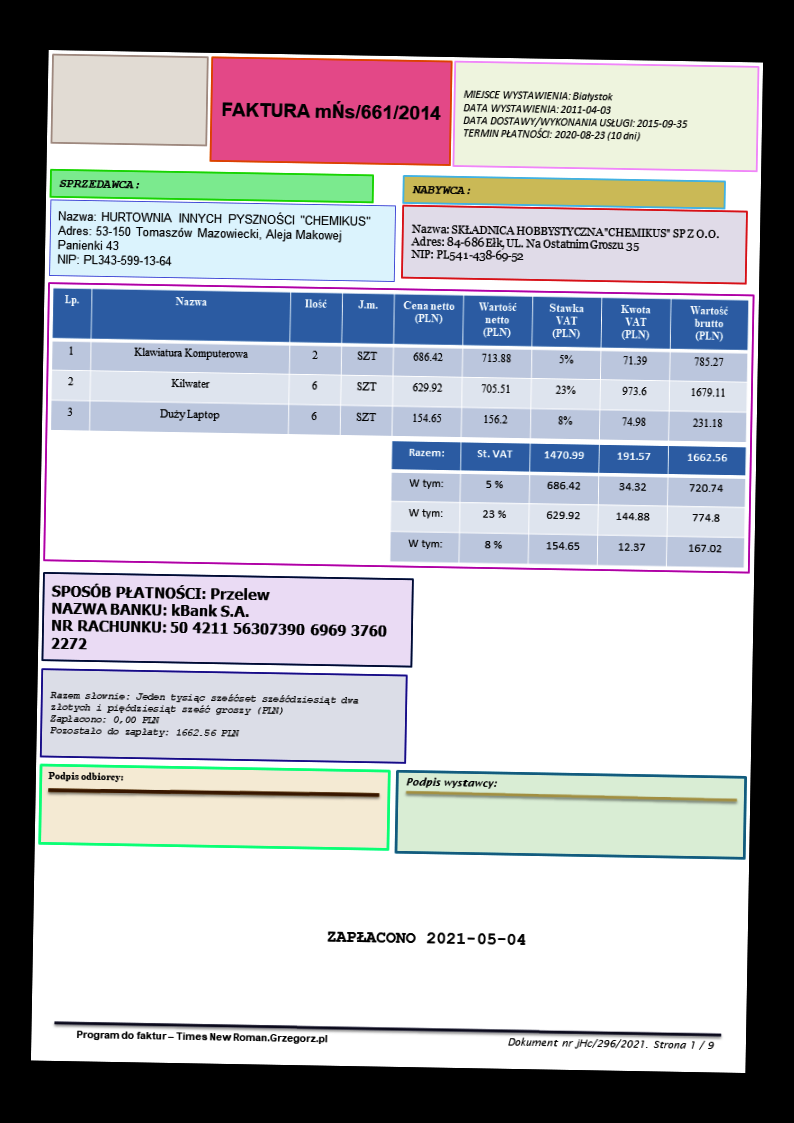Table: (50, 287, 749, 444), (388, 439, 747, 569)
TextBox: (48, 581, 388, 658), (55, 207, 373, 273), (47, 687, 361, 742), (409, 220, 722, 268), (461, 87, 690, 143), (220, 97, 443, 123), (74, 1028, 329, 1047), (325, 927, 528, 949), (506, 1035, 715, 1053), (404, 775, 499, 791), (47, 768, 123, 784), (58, 177, 141, 191), (410, 183, 472, 197)
